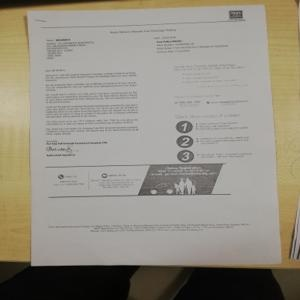image: (139, 157, 223, 198)
text: (42, 70, 143, 140), (152, 30, 230, 56), (42, 34, 97, 62)
